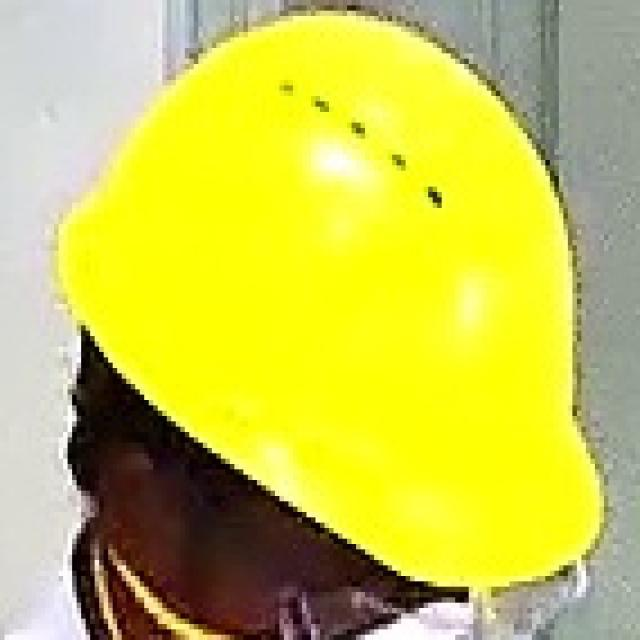yellow helmet: (55, 1, 613, 593)
